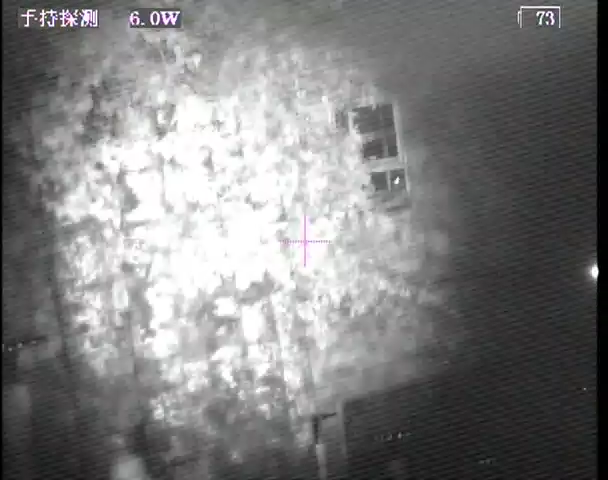my: (393, 176, 402, 188)
